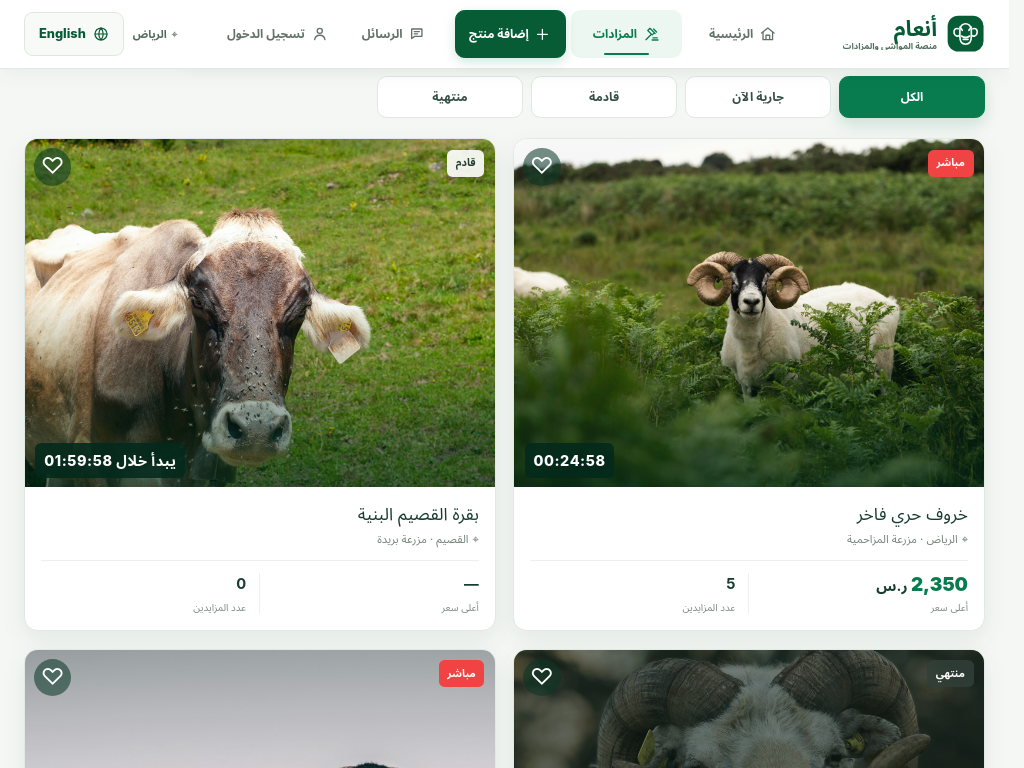
responsive Auction List page › renders Arabic RTL and opens the room for the selected auction
(page scrolled)
Click the link with aria-label "فتح مزاد بقرة القصيم البنية" at (260, 385), box [25, 139, 495, 630]
(page scrolled)
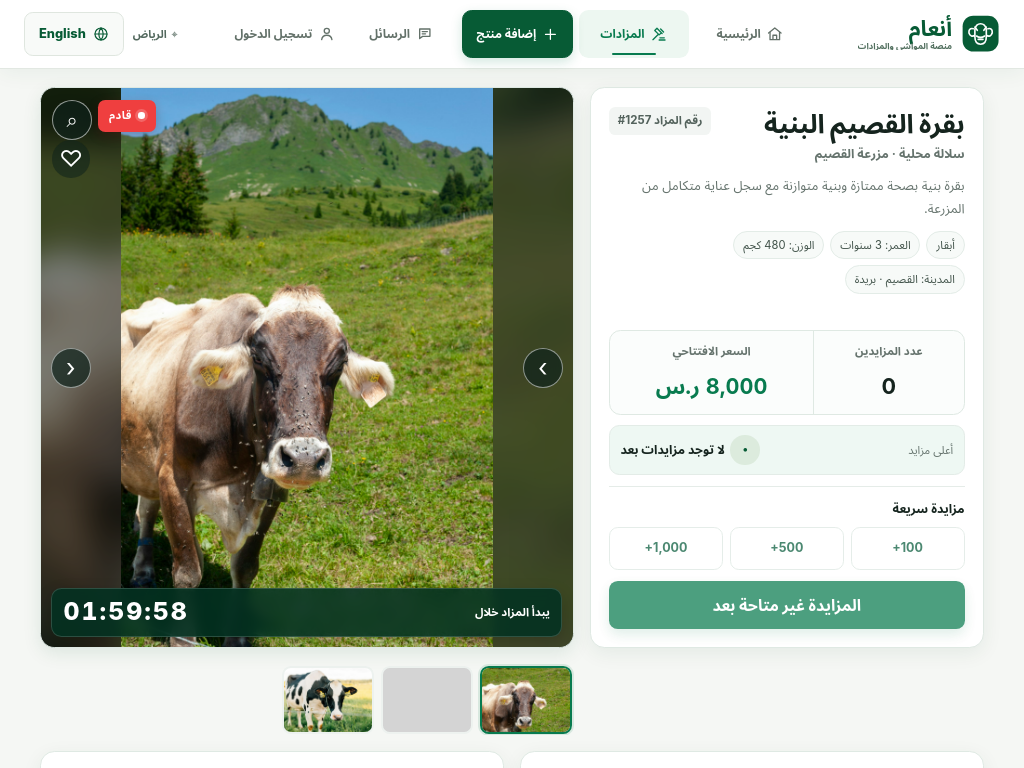
Expected: the heading "بقرة القصيم البنية" is shown, [764, 107, 965, 141]
